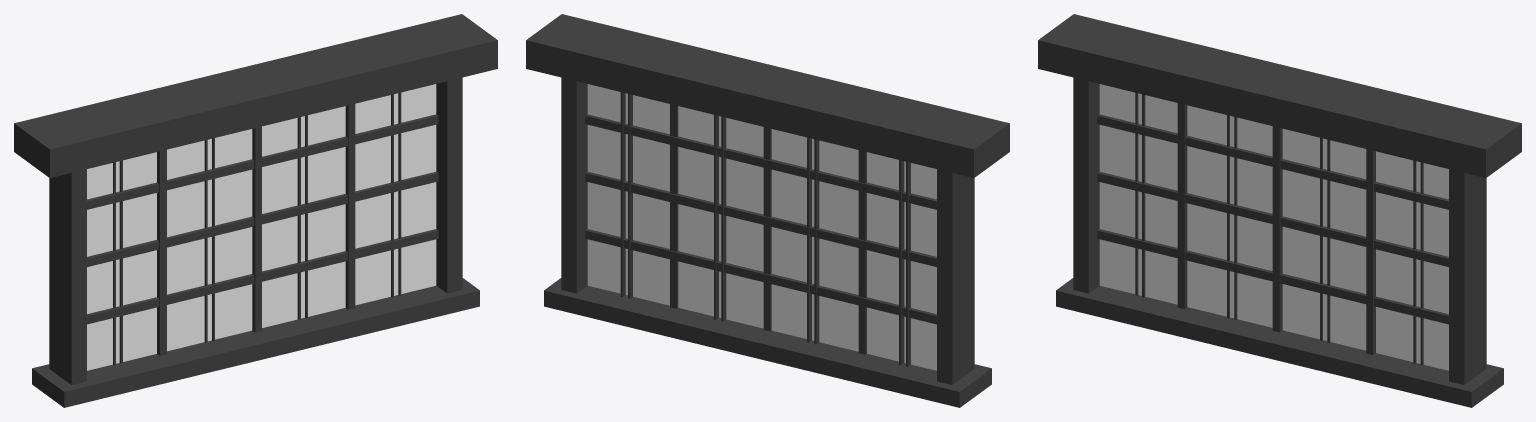
The model's file is window_020.fbx.
3 views of the same model, side by side, from view 1: azimuth 30°, elevation 25°; view 2: azimuth 150°, elevation 25°; view 3: azimuth 330°, elevation 25° (orthographic).
Parts seen in each view (by area): view 1: window_020; view 2: window_020; view 3: window_020.
Part boxes in pixels (left/top/right/bottom): window_020: left=14, top=14, right=497, bottom=407; window_020: left=526, top=14, right=1009, bottom=407; window_020: left=1038, top=14, right=1521, bottom=407.
Bounding box in the file's own units: 343 × 47.45 × 193.
